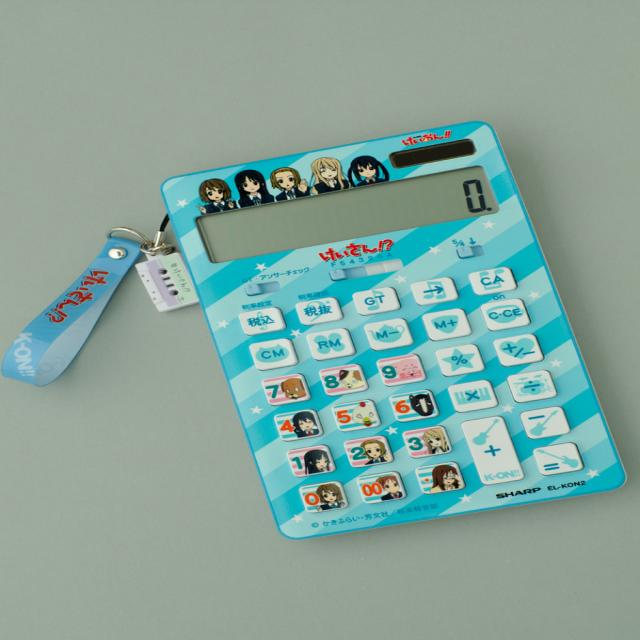Calculator: (0, 117, 633, 543)
